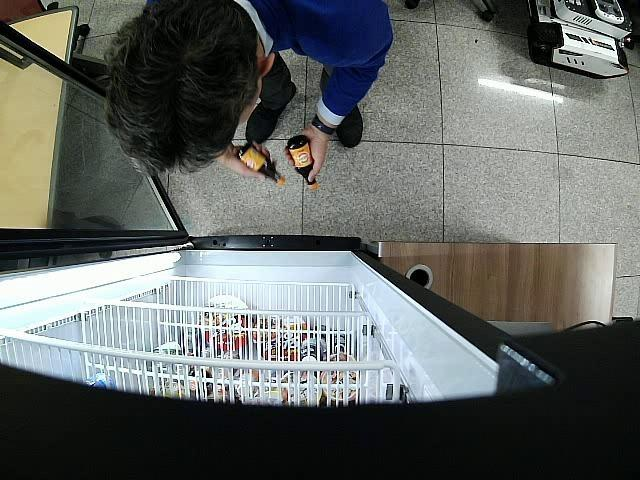17_vita500: (238, 143, 284, 185), (286, 136, 317, 190)
